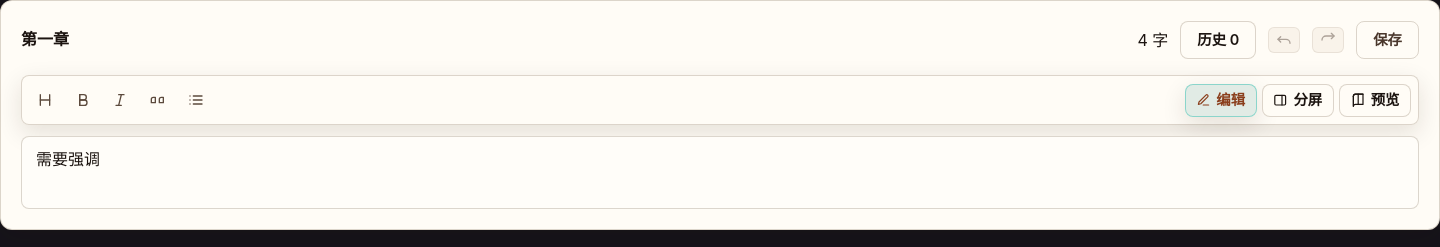
Test: ChapterEditor › inserts Markdown formatting through the toolbar and keeps undo working
Click the button named "加粗" at x=83, y=100, box [67,88,99,113]
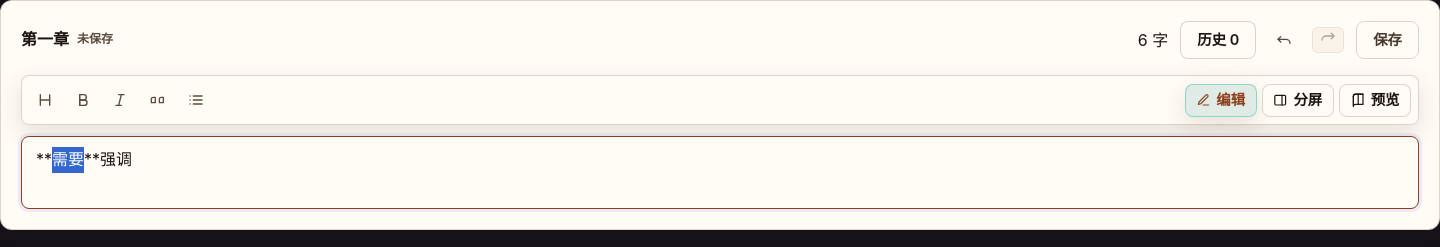
Expected: the text box named "章节正文" holds "**需要**强调"
Press z in the text box named "章节正文", box [21,136,1419,209]
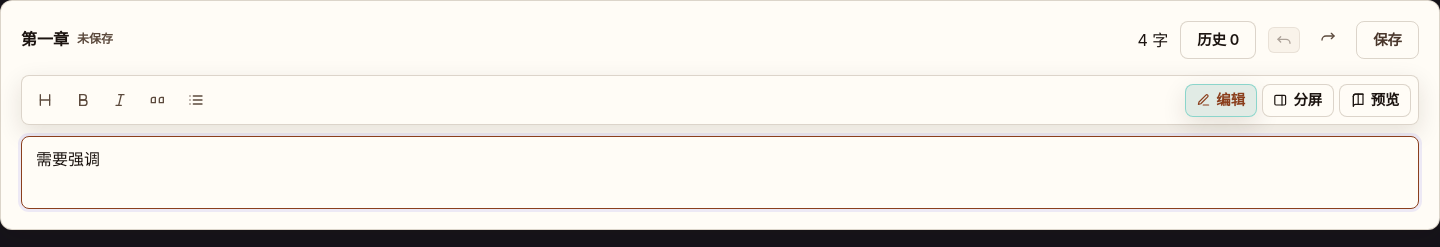
Expected: the text box named "章节正文" holds "需要强调", [21,136,1419,209]
